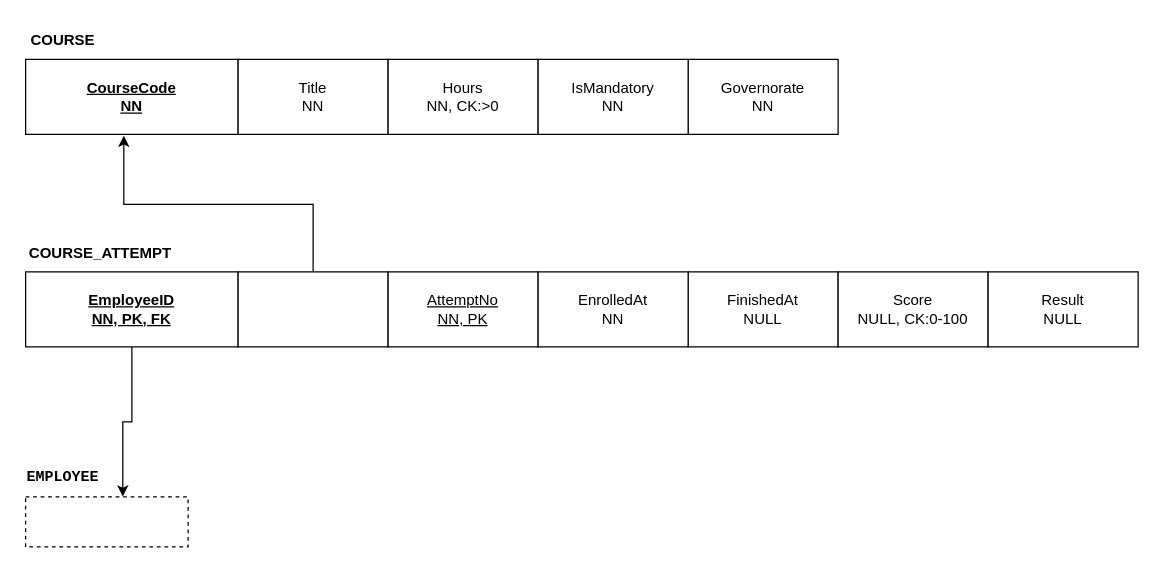
Some shapes in this 1160 by 569 pixel diagram are drawn without their labels. The centre of each missing label's shape, as x and y in pixels:
"CourseCode NN, PK, FK" belongs at pixel 312 309.
"EMPLOYEE.EmployeeID" belongs at pixel 106 521.
